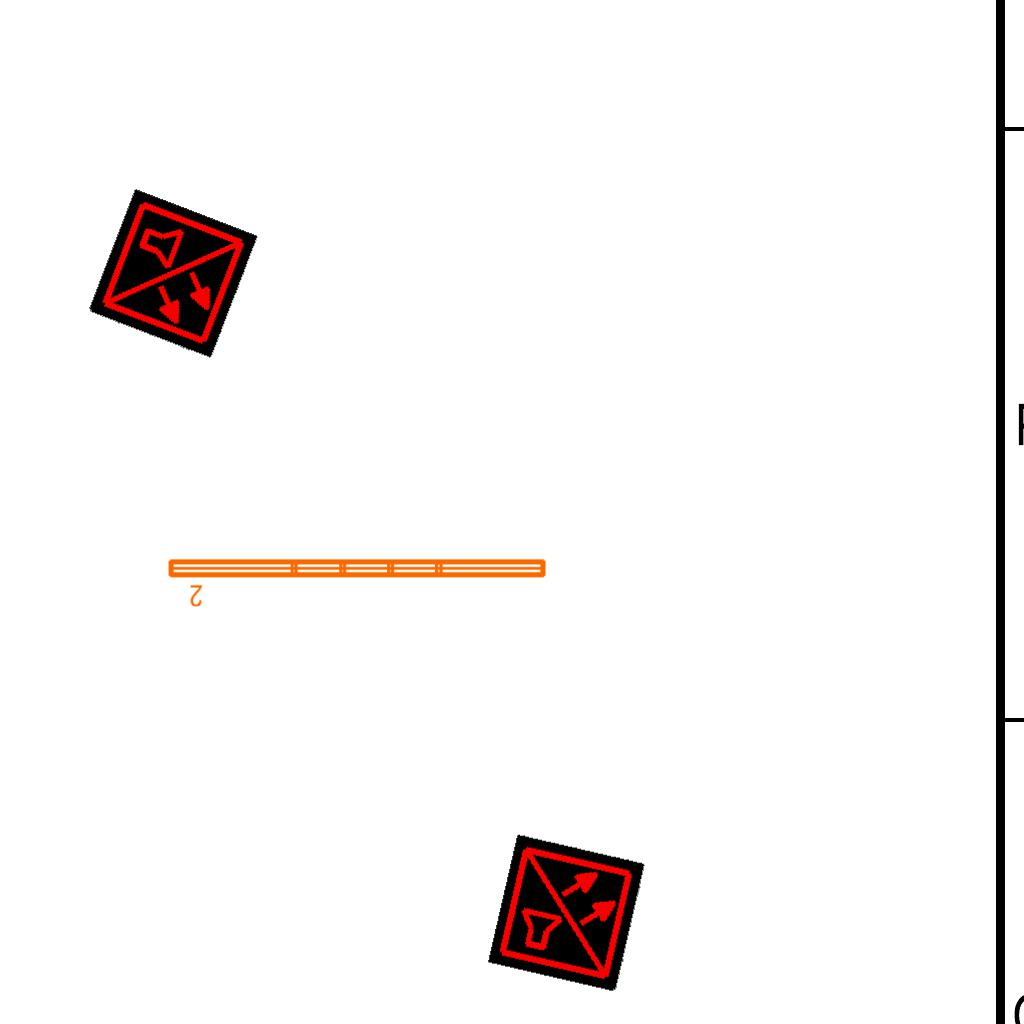Ambulanz_Pendelleuchte_LED: (164, 553, 551, 609)
OKW_Multisensormelder_(Kombination_optischer_Rauch-Kahlenmonoxid_Waerme-Melder): (87, 188, 259, 360), (487, 833, 647, 993)
